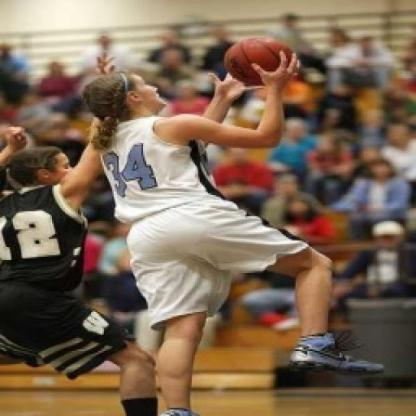basketball: (226, 31, 294, 85)
